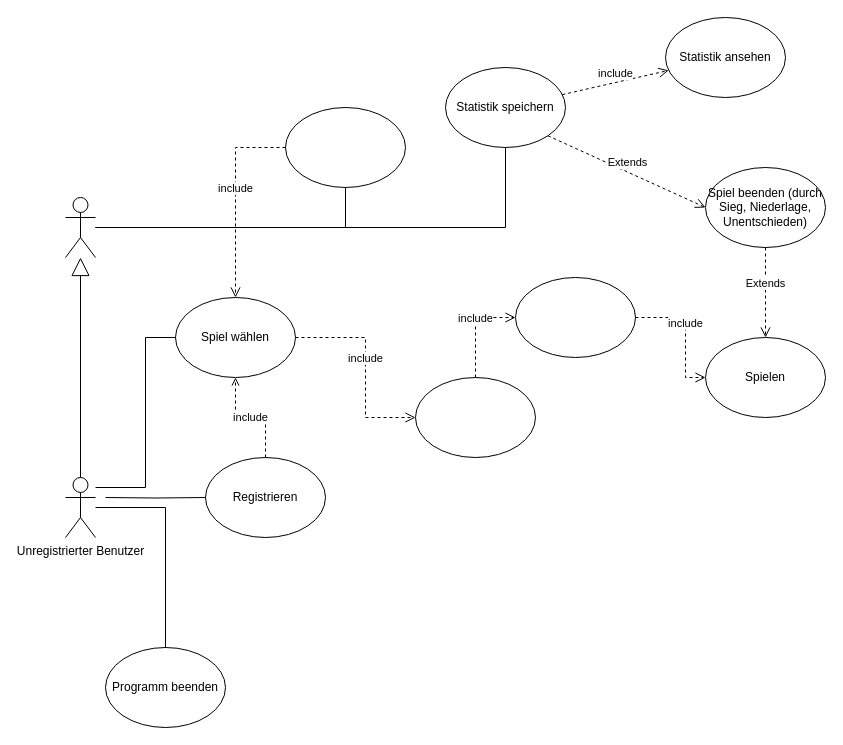
The diagram is 843 pixels wide and 745 high, and some of its shapes have lost their labels. The centre of each missing label's shape, as x and y in pixels:
Anmelden: [345,147]
Gegenspieler wählen: [475,417]
Registrierter Benutzer: [80,227]
Spielsetup: [575,317]
